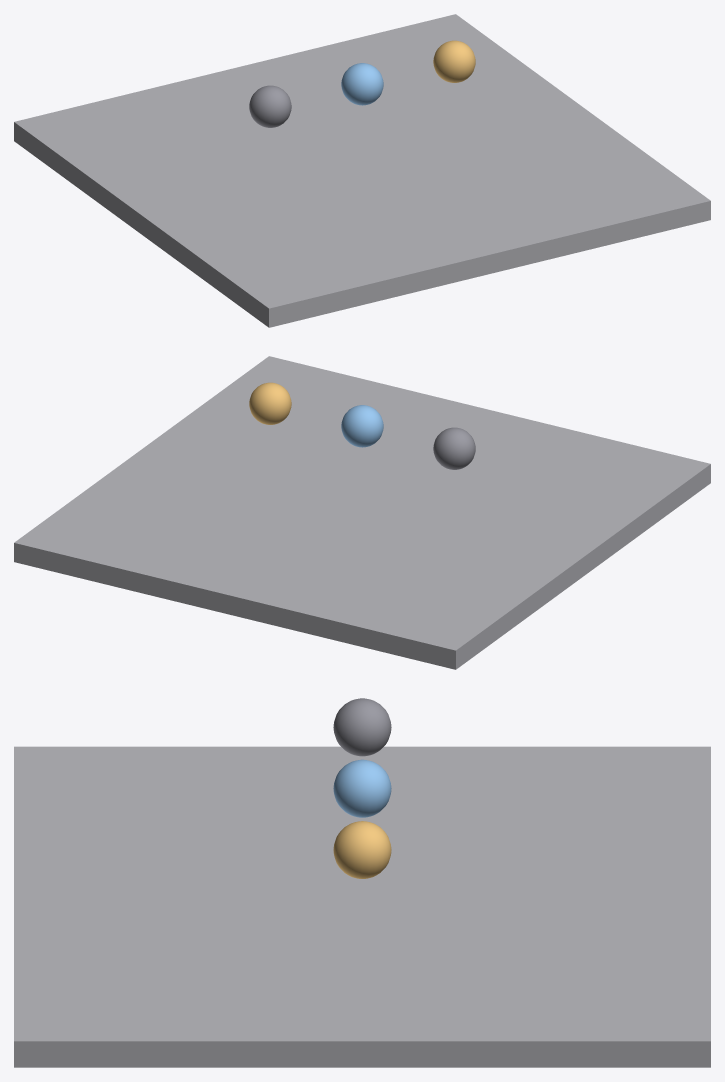
File: RestitutionDemo.gltf
3 views of the same model, one above another, from view 1: azimuth 30°, elevation 25°; view 2: azimuth 150°, elevation 25°; view 3: azimuth 270°, elevation 25° (orthographic). The views are drawn at different scales.
Parts seen in each view (by area): view 1: Floor, Sphere_r00, Sphere_r50, Sphere_r90; view 2: Floor, Sphere_r00, Sphere_r50, Sphere_r90; view 3: Floor, Sphere_r00, Sphere_r50, Sphere_r90.
Part boxes in pixels (box(x1,y1,x2,y2)): Floor: box(14, 14, 710, 327); Sphere_r00: box(249, 85, 291, 127); Sphere_r50: box(341, 63, 383, 105); Sphere_r90: box(433, 40, 475, 82); Floor: box(14, 356, 710, 669); Sphere_r00: box(433, 427, 475, 469); Sphere_r50: box(341, 405, 383, 447); Sphere_r90: box(249, 382, 291, 424); Floor: box(14, 746, 710, 1067); Sphere_r00: box(333, 698, 391, 756); Sphere_r50: box(333, 759, 391, 817); Sphere_r90: box(333, 821, 391, 878).
Bounding box in the file's own units: 12 × 3 × 12.
